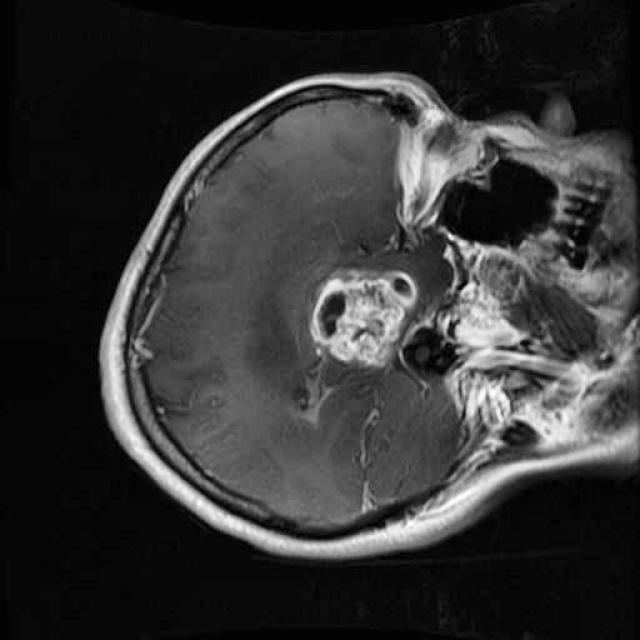Non-Tumor: (301, 255, 432, 374)
